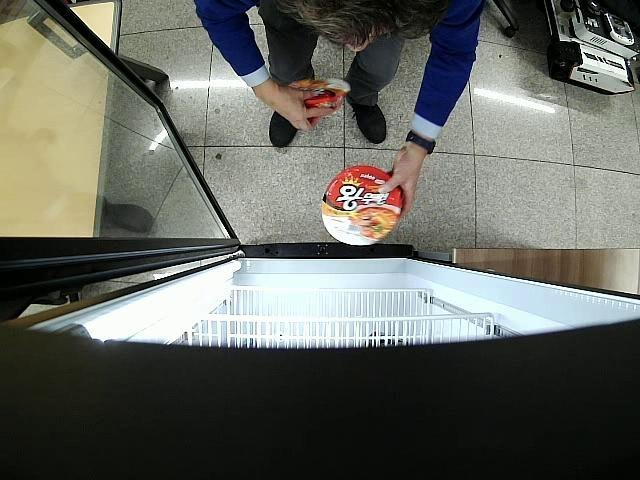10_wangTtukkeong: (322, 164, 404, 246), (288, 80, 350, 110)
